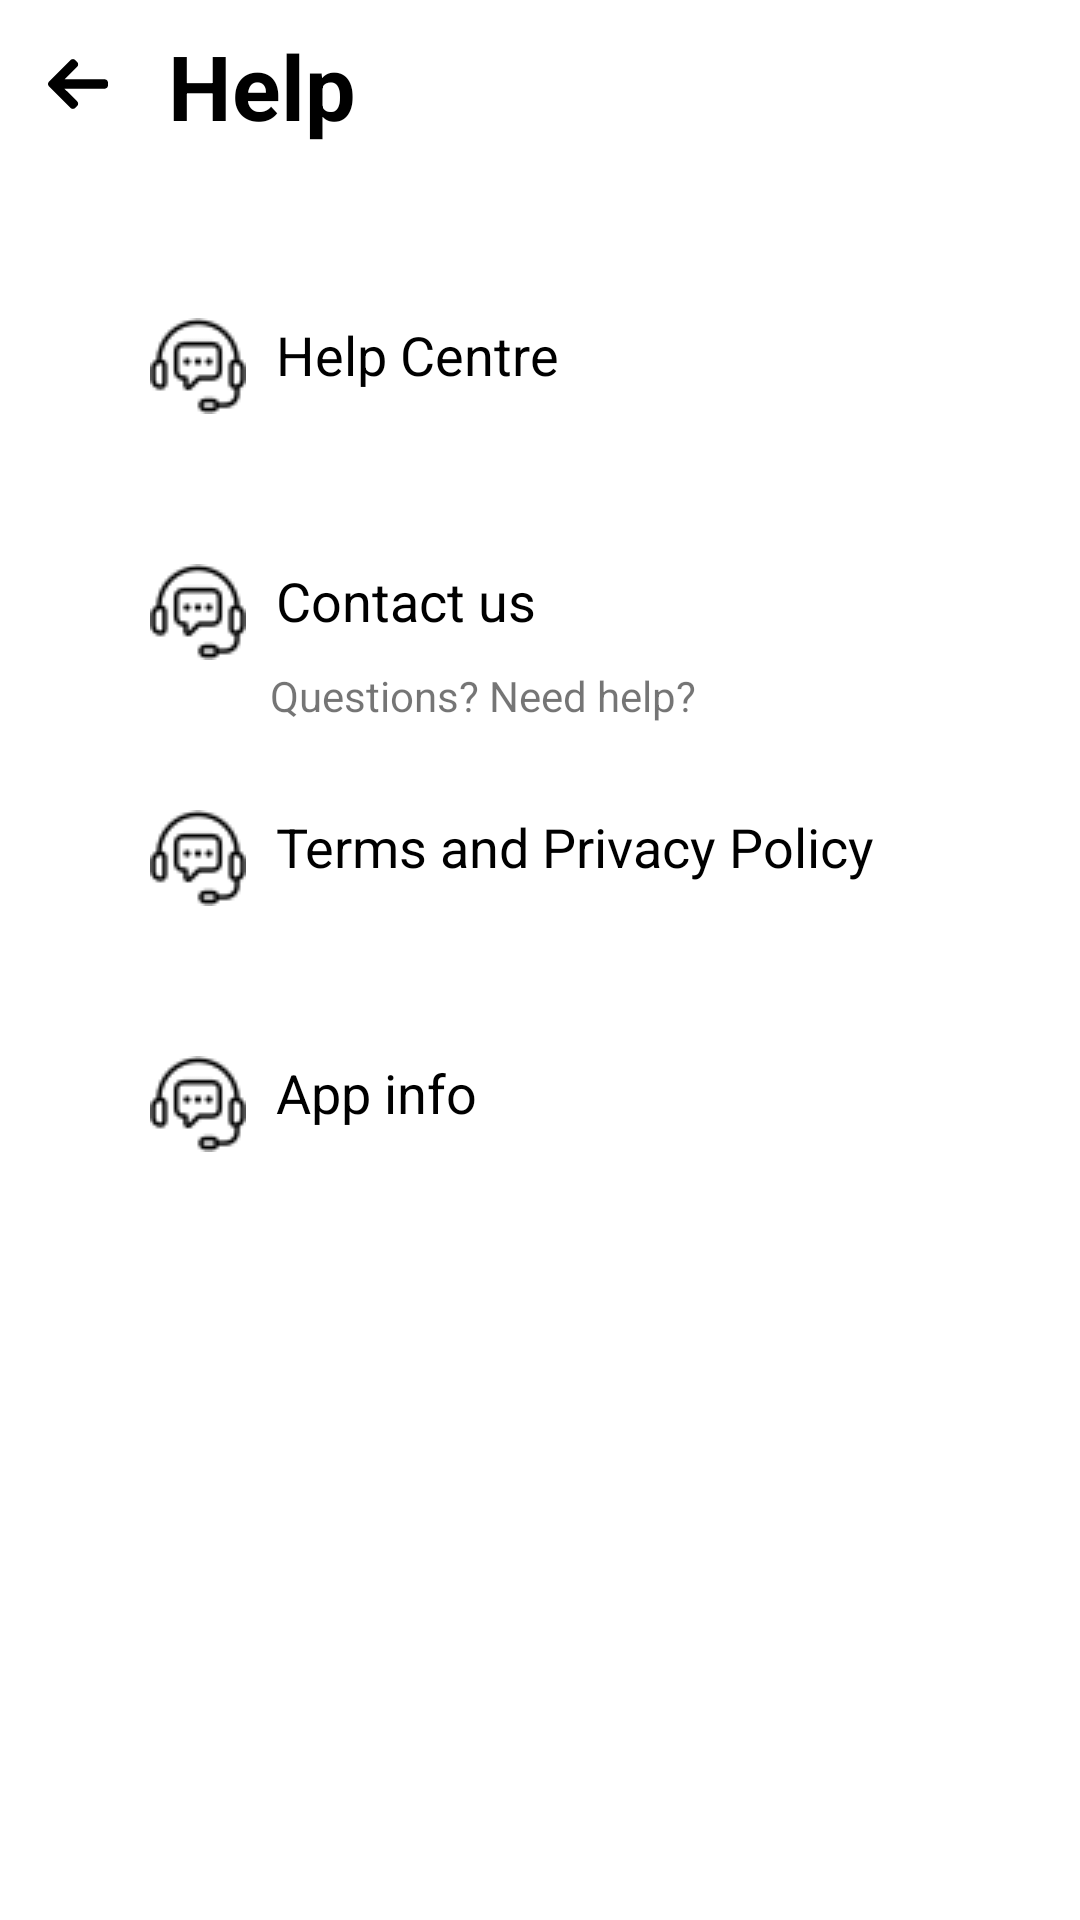

Screen size 1080*1920. Icon name, then its box in pixels as (x1, y1, x2, y2):
left arrow: (48, 59, 108, 109)
